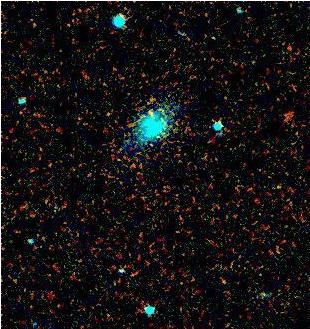star: (137, 100, 167, 130)
